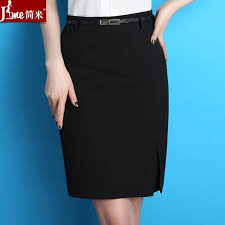F_tailored skirt: (46, 5, 179, 206)
